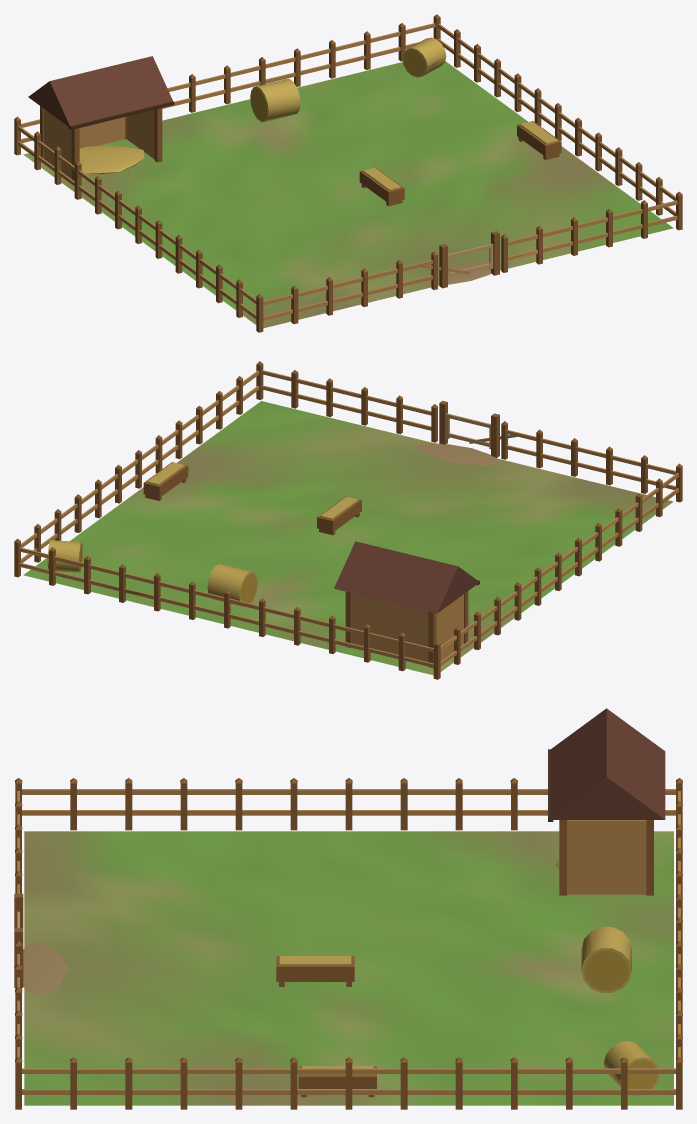
The model's file is pasture-g2.glb.
The picture shows the model from 3 angles, top to bottom: view 1: azimuth 30°, elevation 25°; view 2: azimuth 150°, elevation 25°; view 3: azimuth 270°, elevation 25°; orthographic projection. The views are drawn at different scales.
Parts seen in each view (by area): view 1: home-pasture-g2, home-pasture-g2-far; view 2: home-pasture-g2, home-pasture-g2-far; view 3: home-pasture-g2, home-pasture-g2-far.
Boxes of the visible parts, left/top/right/bottom form: home-pasture-g2: left=15, top=14, right=681, bottom=328; home-pasture-g2-far: left=14, top=14, right=682, bottom=332; home-pasture-g2: left=14, top=361, right=681, bottom=675; home-pasture-g2-far: left=14, top=361, right=682, bottom=679; home-pasture-g2: left=14, top=708, right=682, bottom=1109; home-pasture-g2-far: left=15, top=741, right=682, bottom=1109.
Bounding box in the file's own units: 11.93 × 2.45 × 11.95.
